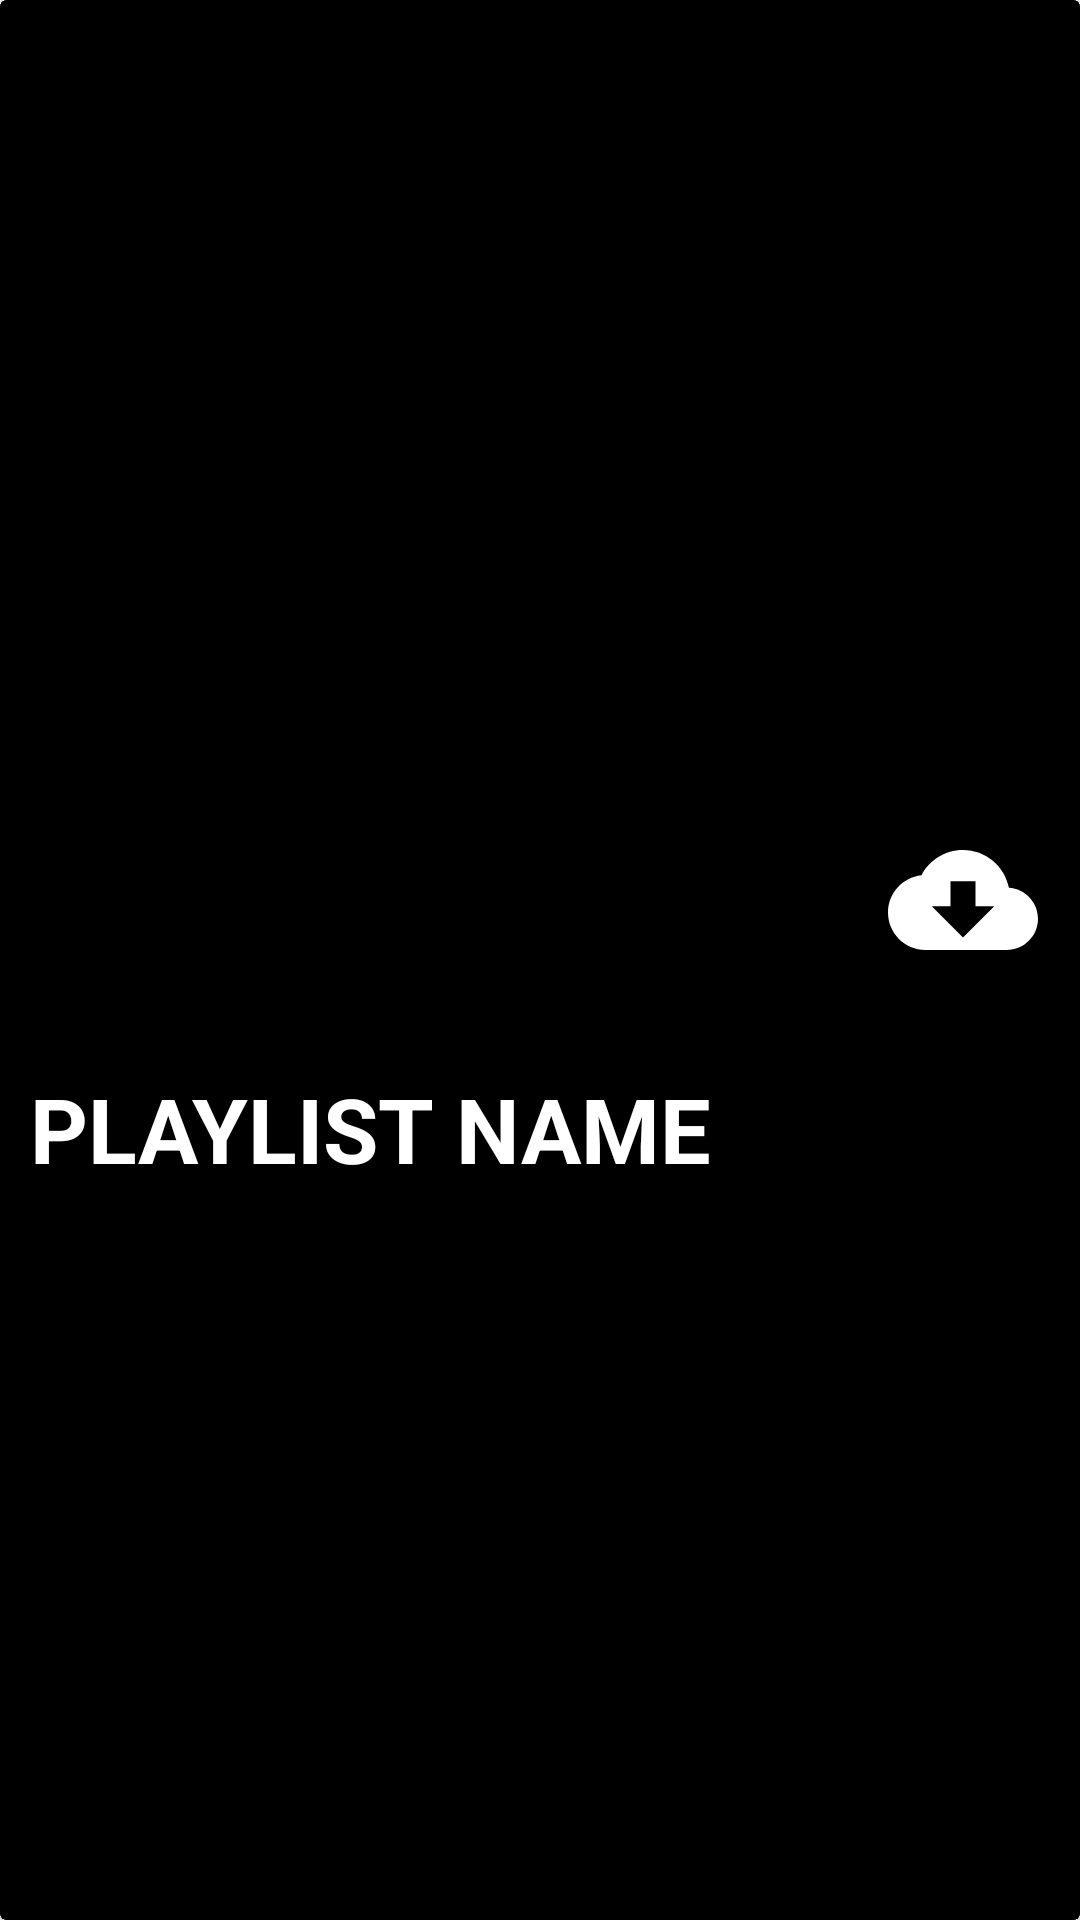

Named icons in this screenshot (1080 x 1920) and their bounding boxes, (x1, y1, x2, y2):
cloud download: (888, 850, 1038, 950)
